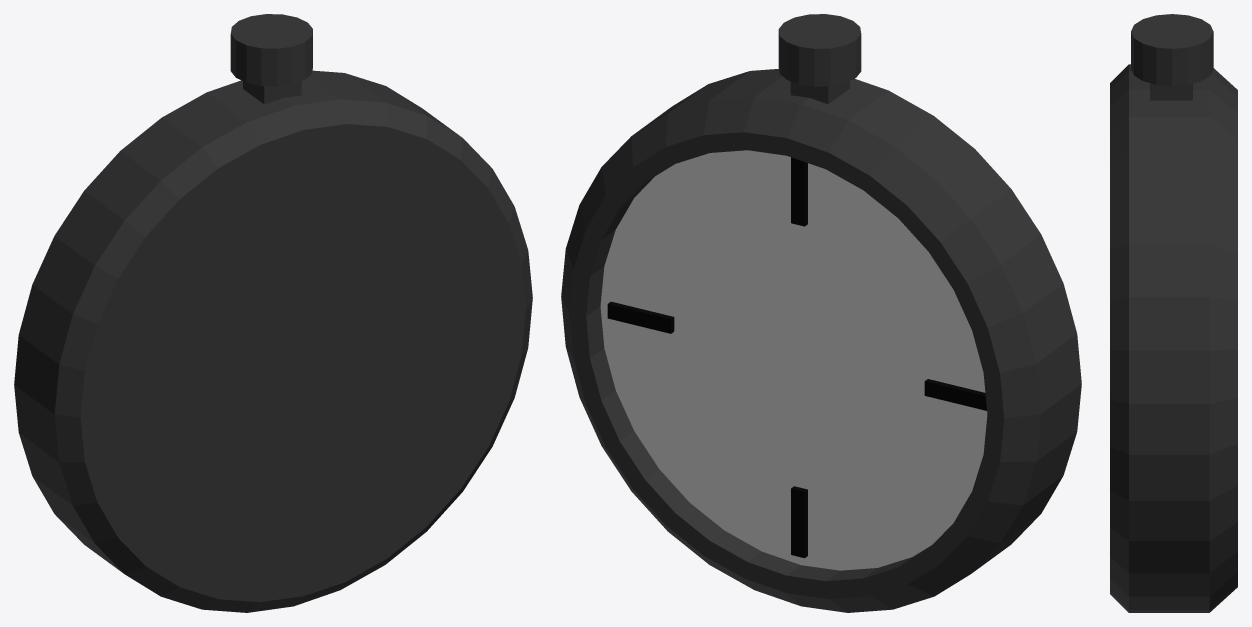
The model's file is timer2.obj.
3 renders of one model, left to right at view 1: azimuth 30°, elevation 25°; view 2: azimuth 150°, elevation 25°; view 3: azimuth 270°, elevation 25°, orthographic.
Visible parts, largest first — view 1: 円柱; view 2: 円柱; view 3: 円柱.
Part boxes in pixels (x1,y1,x2,y2): 円柱: (14, 14, 532, 612); 円柱: (561, 14, 1081, 612); 円柱: (1110, 14, 1237, 612).
Size of the model in its own units: 3.31 by 3.7 by 0.7713.
